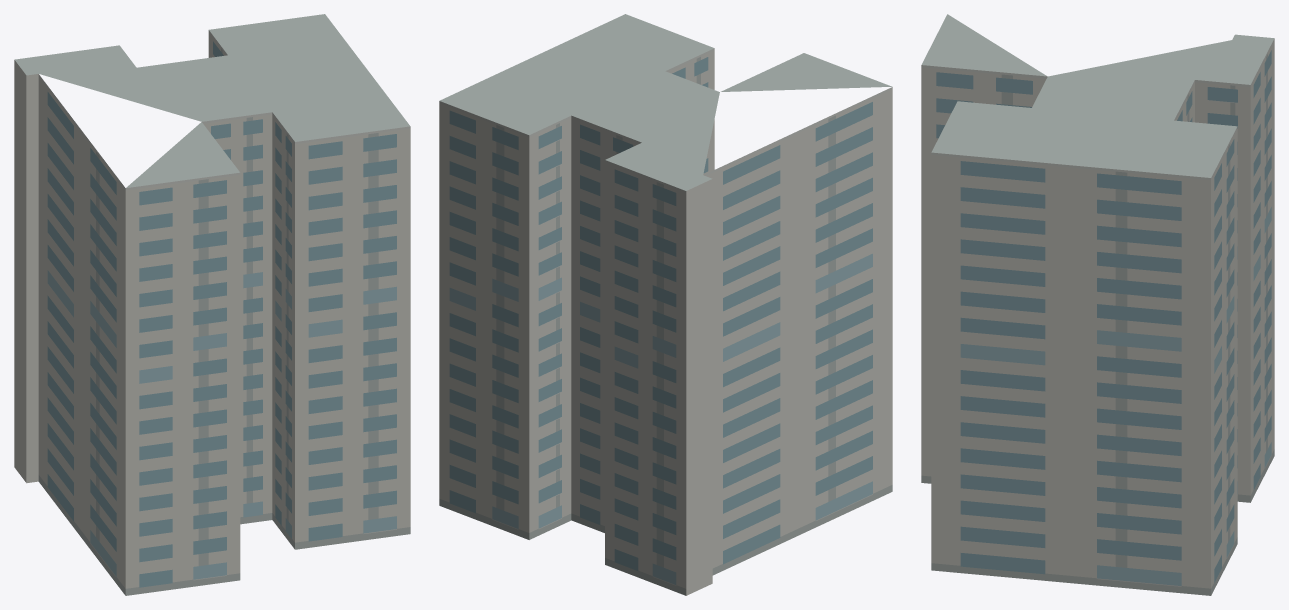
The model's file is residential-d0edea6f-af4f-4e40-abe9-8e69efaf4ba1.glb.
3 renders of one model, left to right at view 1: azimuth 30°, elevation 25°; view 2: azimuth 150°, elevation 25°; view 3: azimuth 270°, elevation 25°, orthographic. The views are drawn at different scales.
Parts seen in each view (by area): view 1: residential-d0edea6f-af4f-4e40-abe9-8e69efaf4ba1.tmp; view 2: residential-d0edea6f-af4f-4e40-abe9-8e69efaf4ba1.tmp; view 3: residential-d0edea6f-af4f-4e40-abe9-8e69efaf4ba1.tmp.
Boxes of the visible parts, x1,y1,x2,y2 form: residential-d0edea6f-af4f-4e40-abe9-8e69efaf4ba1.tmp: (14,14,410,595); residential-d0edea6f-af4f-4e40-abe9-8e69efaf4ba1.tmp: (439,14,892,595); residential-d0edea6f-af4f-4e40-abe9-8e69efaf4ba1.tmp: (921,14,1274,595).
Bounding box in the file's own units: 38.74 × 46 × 35.24.
